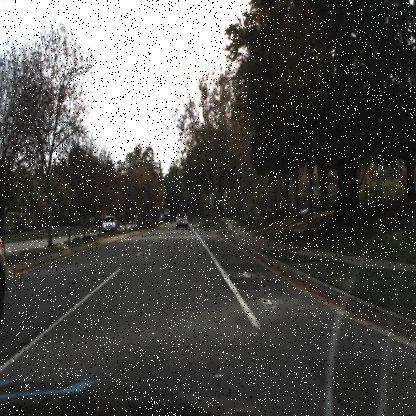car: (0, 212, 14, 354), (99, 211, 118, 233), (174, 209, 189, 230)
